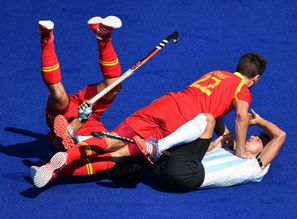fall: (18, 30, 282, 190)
